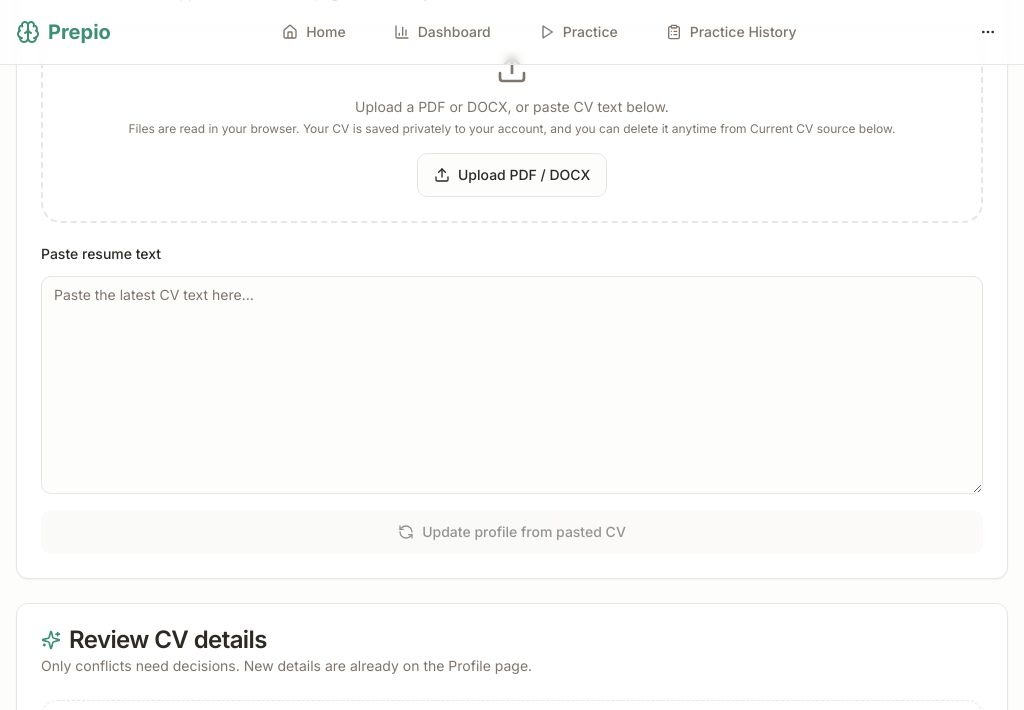
Test: Profile page › shows a recovery error when import finalization fails after profile save
(page scrolled)
In the text box labelled "Paste resume text": (512, 385) [41,276,983,494], type "Imported resume text"
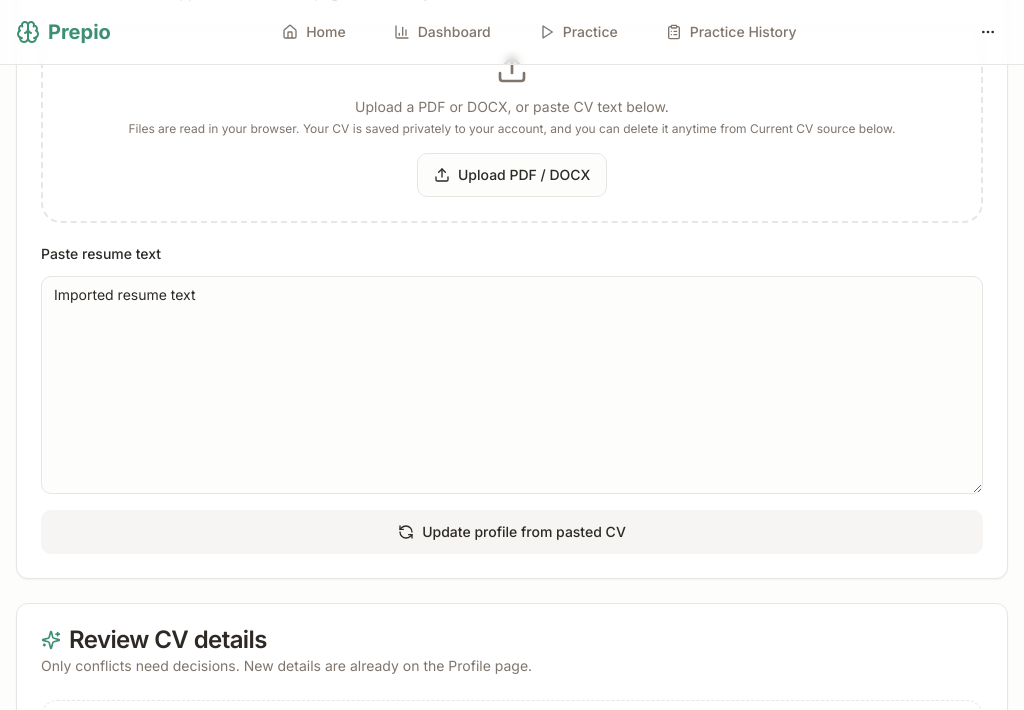
Click the button "Update profile from pasted CV": (512, 532) [41,510,983,554]
(page scrolled)
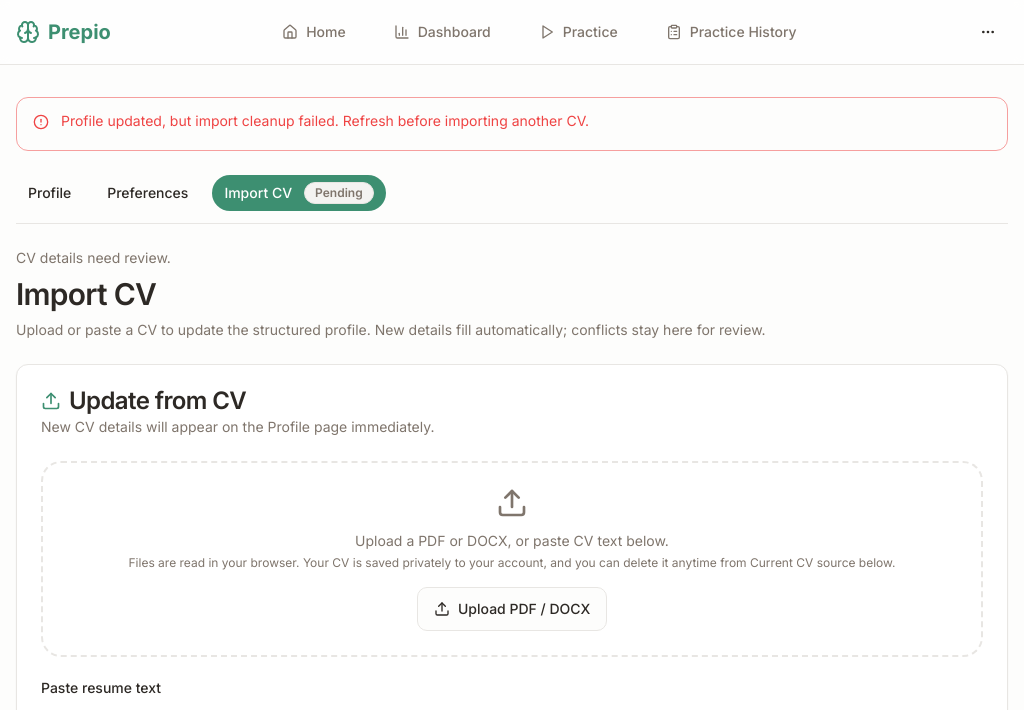
Check: the text "Profile updated, but import cleanup failed. Refresh before importing another CV." is shown, box [61,112,589,129]
